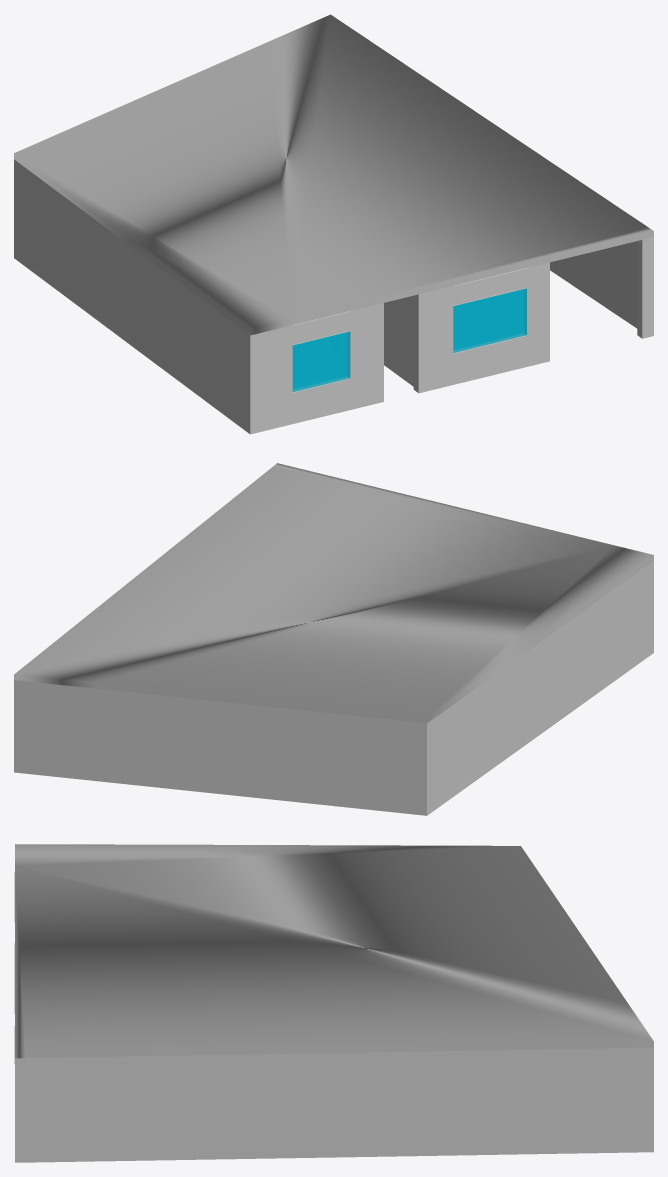
The picture shows the model from 3 angles, top to bottom: view 1: azimuth 30°, elevation 25°; view 2: azimuth 150°, elevation 25°; view 3: azimuth 270°, elevation 25°; orthographic projection. The views are drawn at different scales.
Parts seen in each view (by area): view 1: roof, walls, windows; view 2: roof, walls; view 3: roof, walls.
Boxes of the visible parts, bbox=[...] form: roof: bbox=[14, 14, 653, 335]; walls: bbox=[14, 159, 653, 434]; windows: bbox=[292, 288, 526, 392]; roof: bbox=[14, 463, 653, 723]; walls: bbox=[14, 561, 653, 815]; roof: bbox=[15, 844, 653, 1058]; walls: bbox=[14, 872, 653, 1162].
Bounding box in the file's own units: 10.67 × 2.65 × 13.88.
